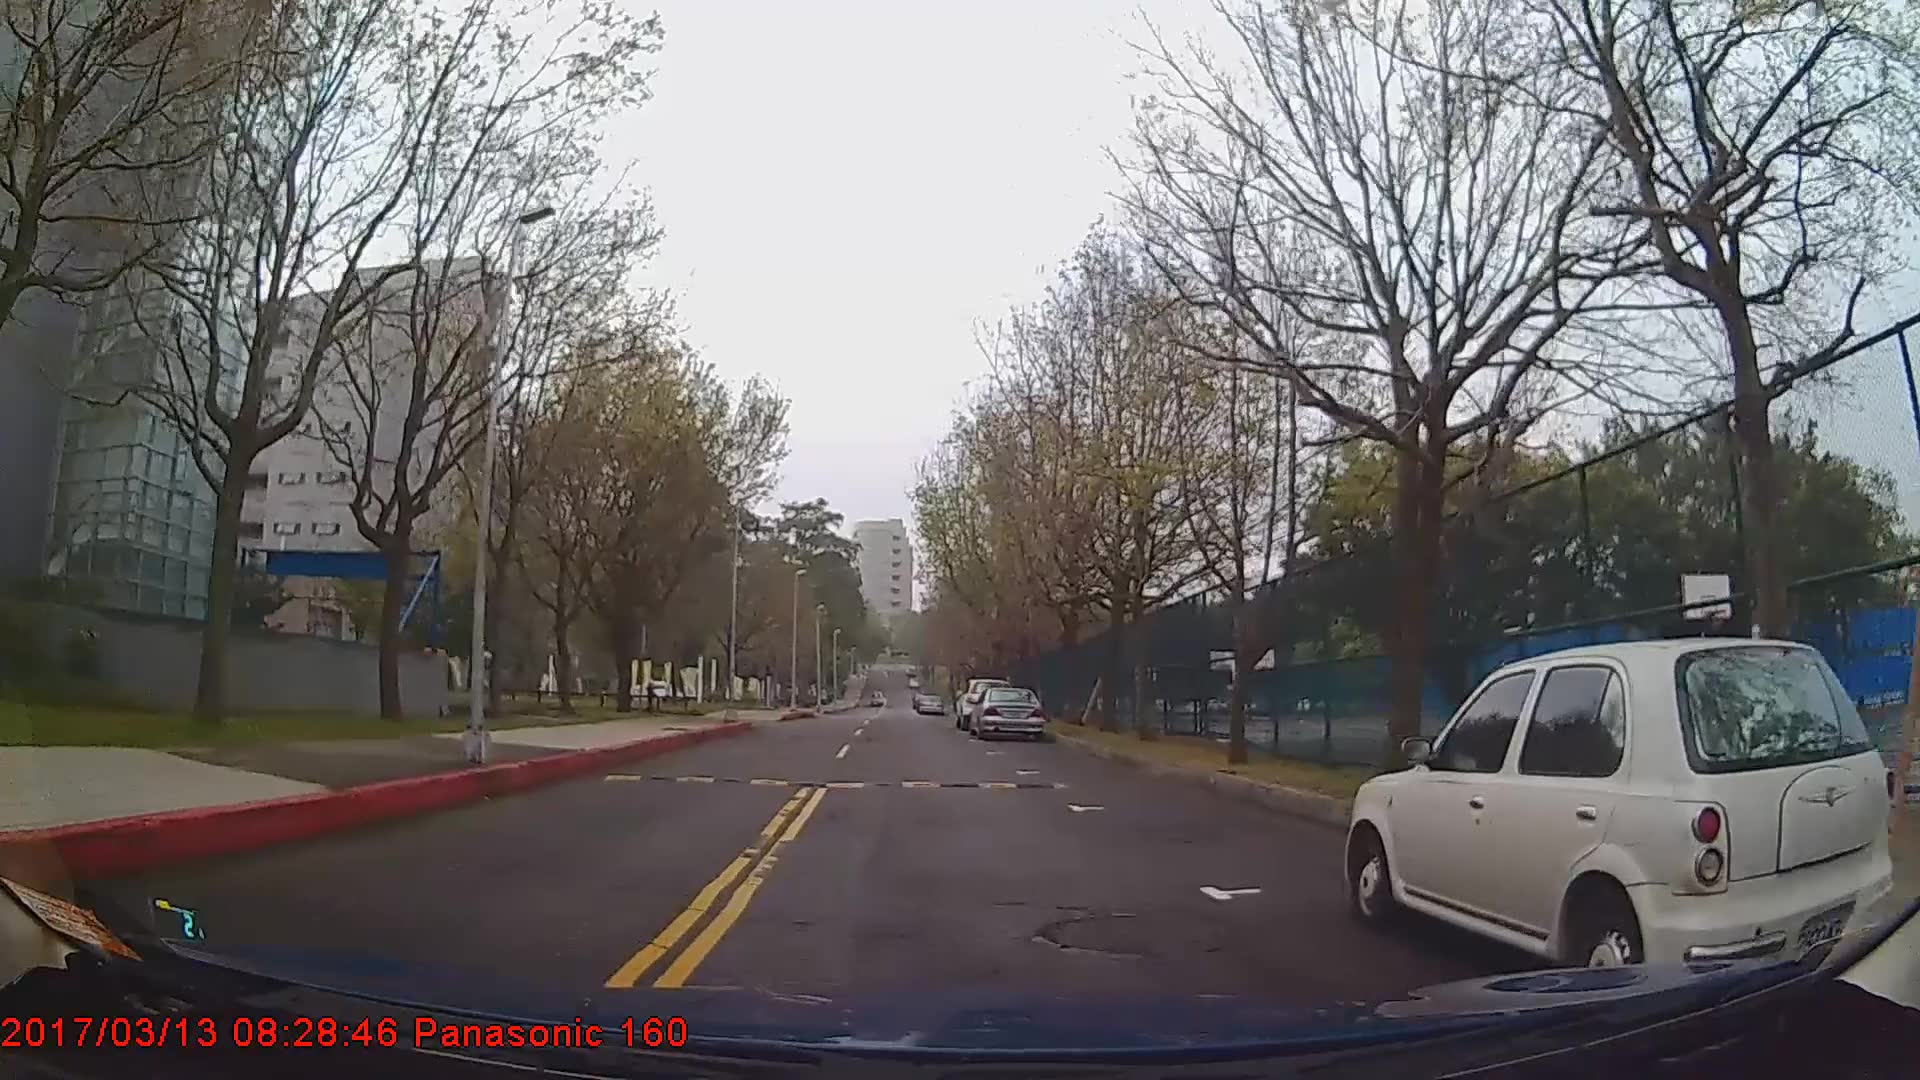vehicle: (1345, 637, 1898, 992), (968, 682, 1046, 737), (914, 694, 944, 717)
